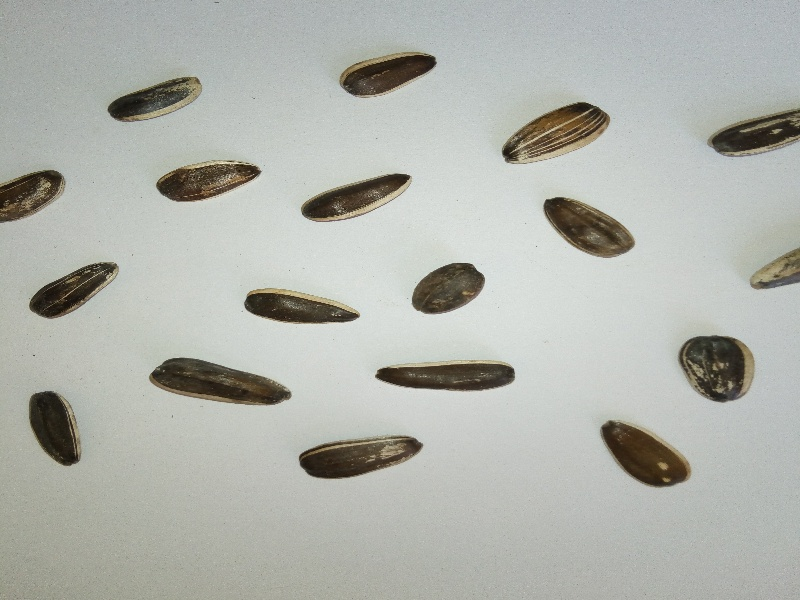w: (138, 350, 300, 412), (498, 94, 616, 169), (588, 414, 701, 492), (290, 425, 428, 485), (668, 326, 765, 409), (296, 164, 419, 227), (537, 191, 638, 266), (23, 256, 123, 326), (99, 71, 209, 133), (234, 283, 367, 332), (334, 44, 445, 100), (369, 356, 519, 397), (19, 387, 90, 471), (148, 156, 265, 206), (407, 256, 489, 321)
